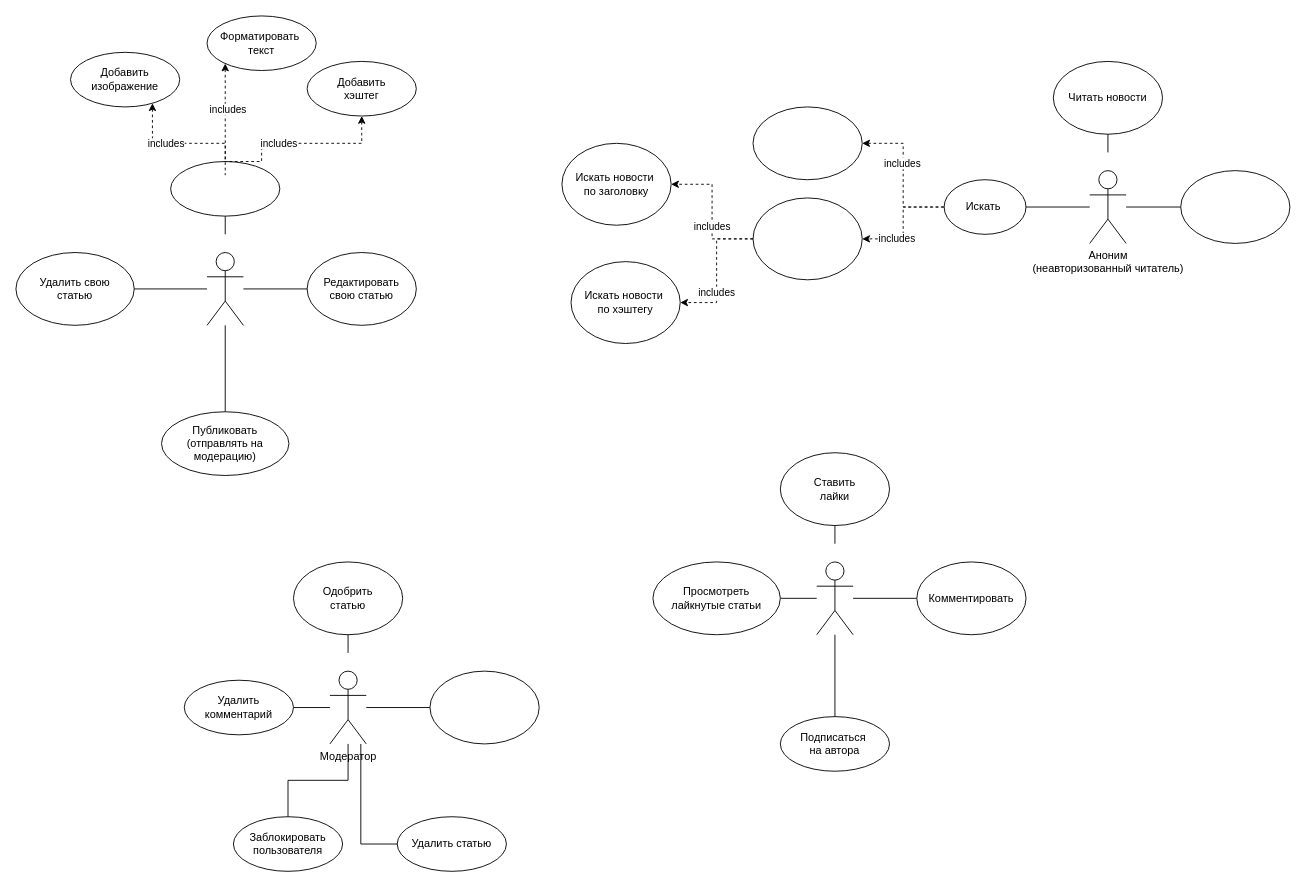
Some shapes in this 1306 by 887 pixel diagram are drawn without their labels. The shapes that lost their labels are listed below. From the top down, each one's centre as x and y in pixels, then its label:
(x=807, y=143): Искать автора
(x=225, y=188): Писать статью
(x=1235, y=206): Авторизоваться
(x=807, y=238): Искать новости
(x=224, y=288): Писатель
(x=834, y=598): Комментатор (авторизованный читатель)
(x=484, y=707): Вернуть статью на доработку
